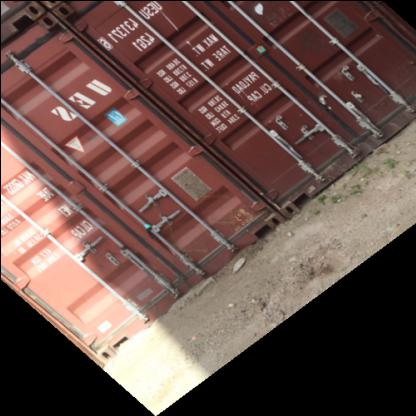Damage: (200, 164, 264, 242)
